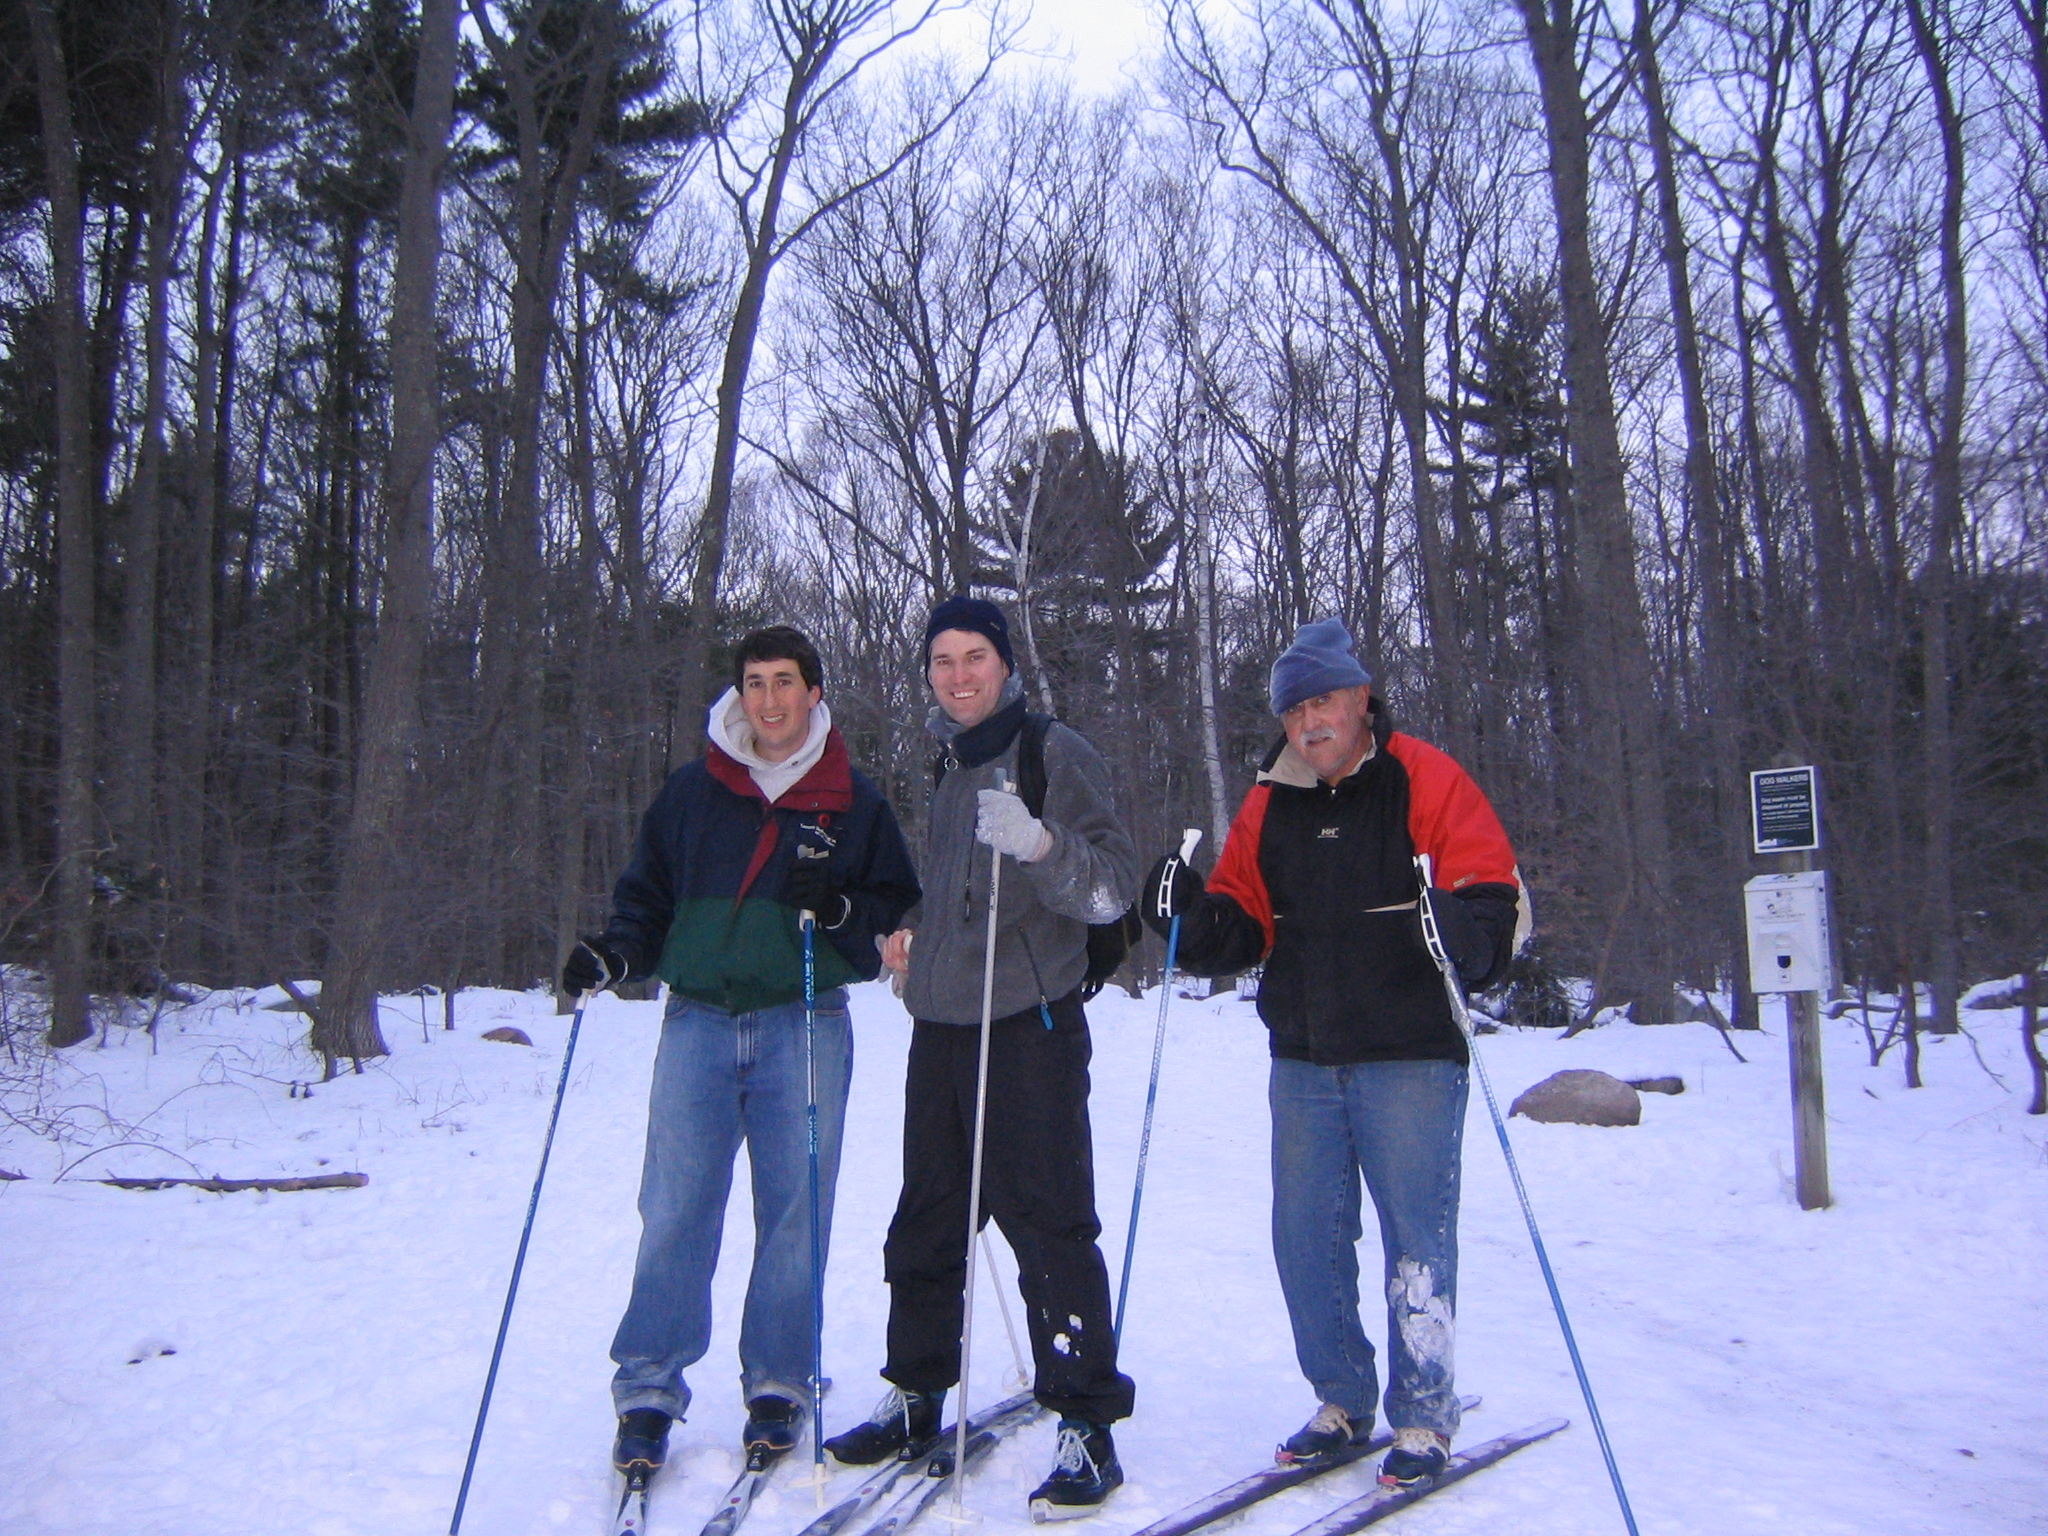skier: (1100, 607, 1637, 1536), (439, 620, 929, 1536)
